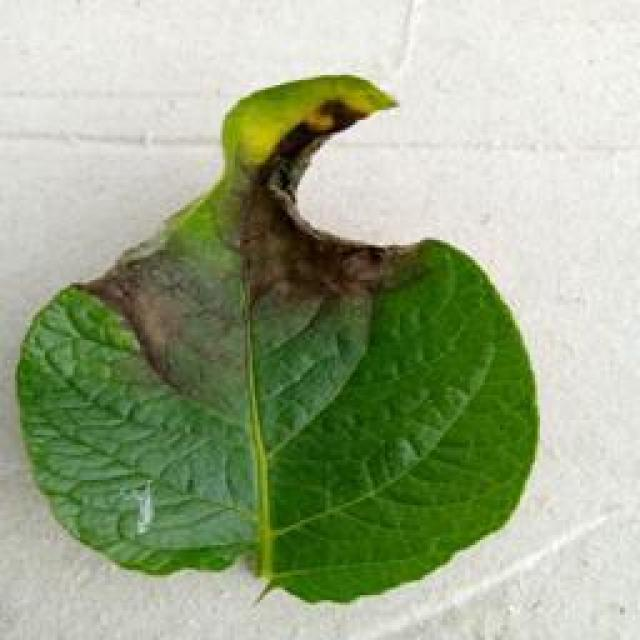late_blight: (10, 68, 542, 608)
